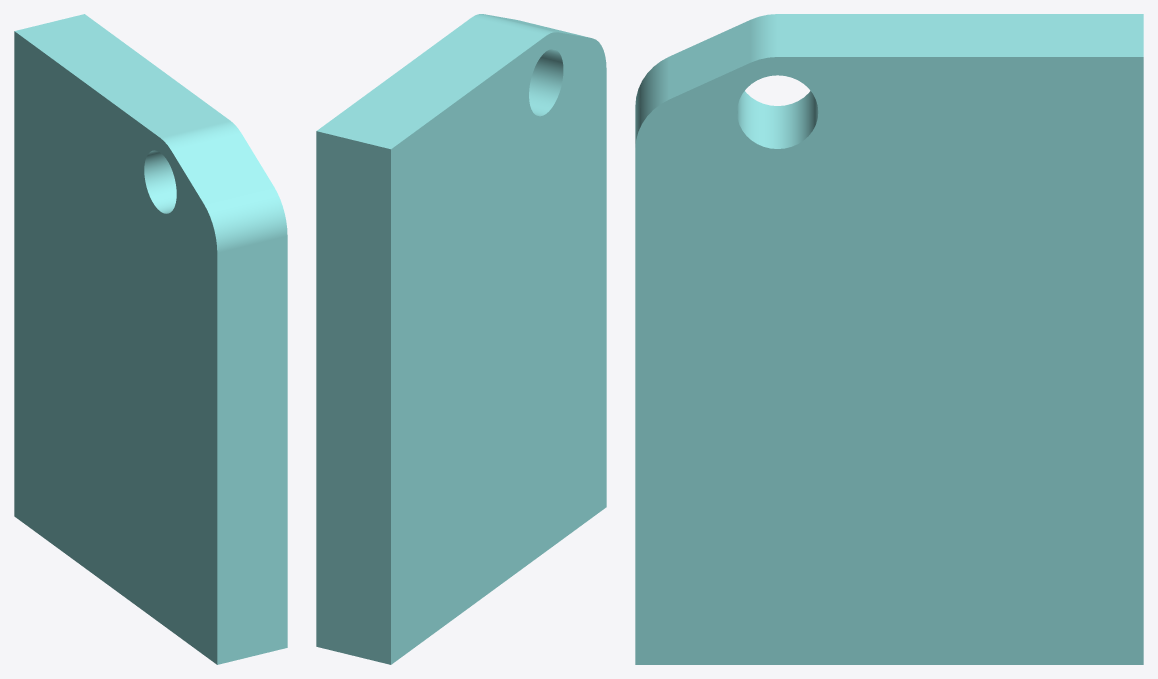
The model's file is body2_fl.dae.
3 views of the same model, side by side, from view 1: azimuth 30°, elevation 25°; view 2: azimuth 150°, elevation 25°; view 3: azimuth 270°, elevation 25° (orthographic). The views are drawn at different scales.
Parts seen in each view (by area): view 1: body2_fl; view 2: body2_fl; view 3: body2_fl.
Boxes of the visible parts, x1,y1,x2,y2 form: body2_fl: [14, 14, 287, 664]; body2_fl: [316, 14, 606, 664]; body2_fl: [635, 14, 1143, 664].
Bounding box in the file's own units: 0.005 × 0.025 × 0.033.
